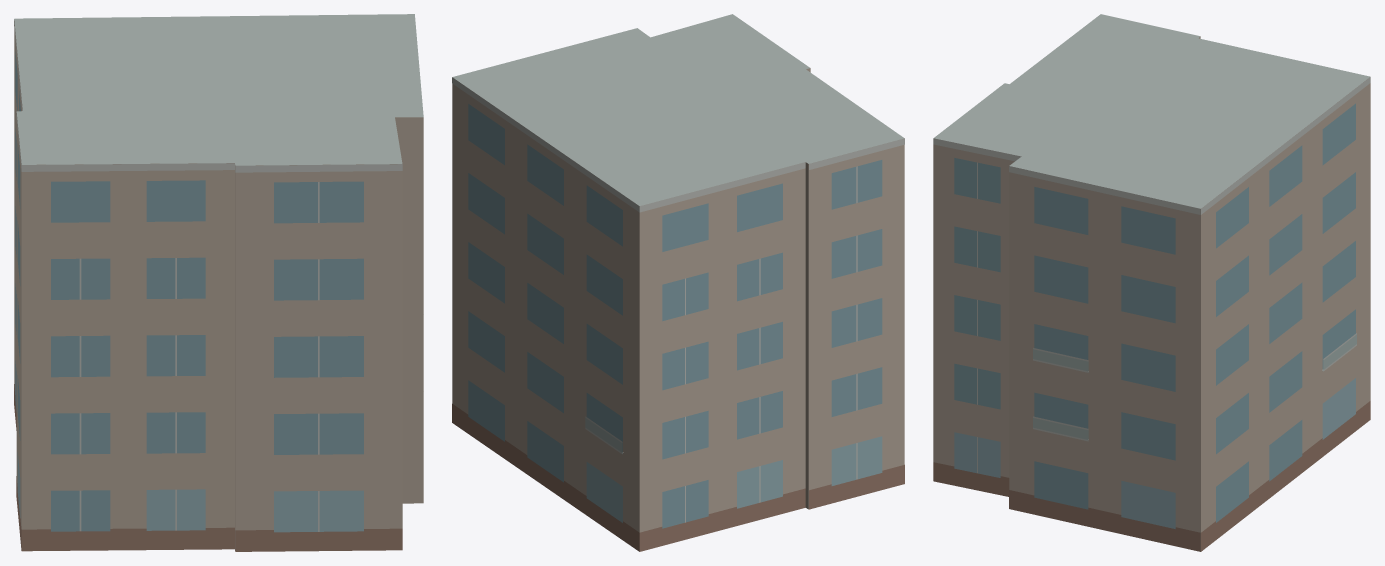
File: survey-upis-32595792.glb
3 views of the same model, side by side, from view 1: azimuth 30°, elevation 25°; view 2: azimuth 150°, elevation 25°; view 3: azimuth 270°, elevation 25° (orthographic). The views are drawn at different scales.
Visible parts, largest first — view 1: survey-upis-32595792.tmp; view 2: survey-upis-32595792.tmp; view 3: survey-upis-32595792.tmp.
Boxes of the visible parts, x1,y1,x2,y2 form: survey-upis-32595792.tmp: (14, 14, 423, 551); survey-upis-32595792.tmp: (452, 14, 904, 551); survey-upis-32595792.tmp: (933, 14, 1370, 551).
Size of the model in its own units: 16.39 by 13.45 by 15.54.
